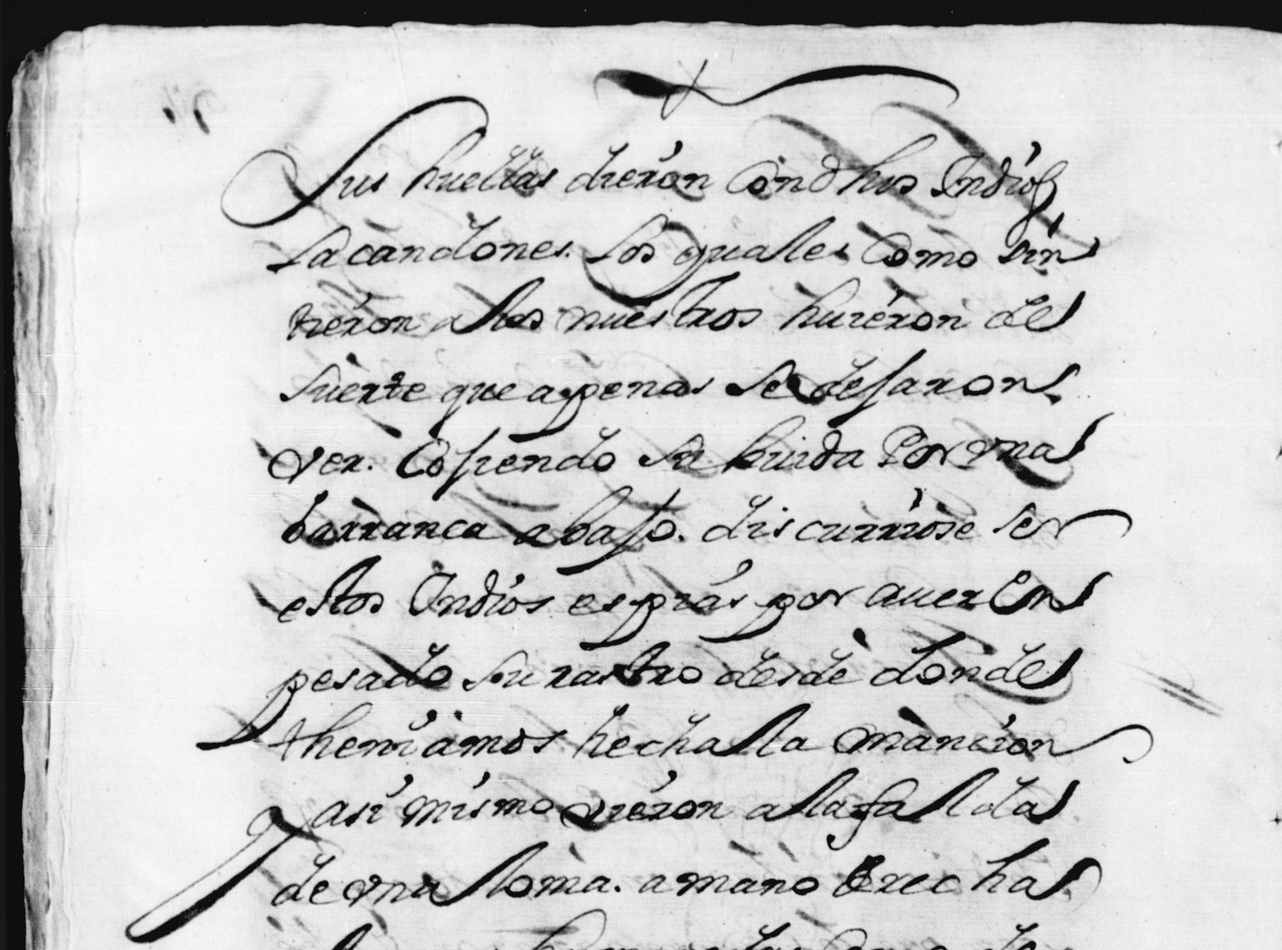lacandon: (266, 215, 573, 271)
